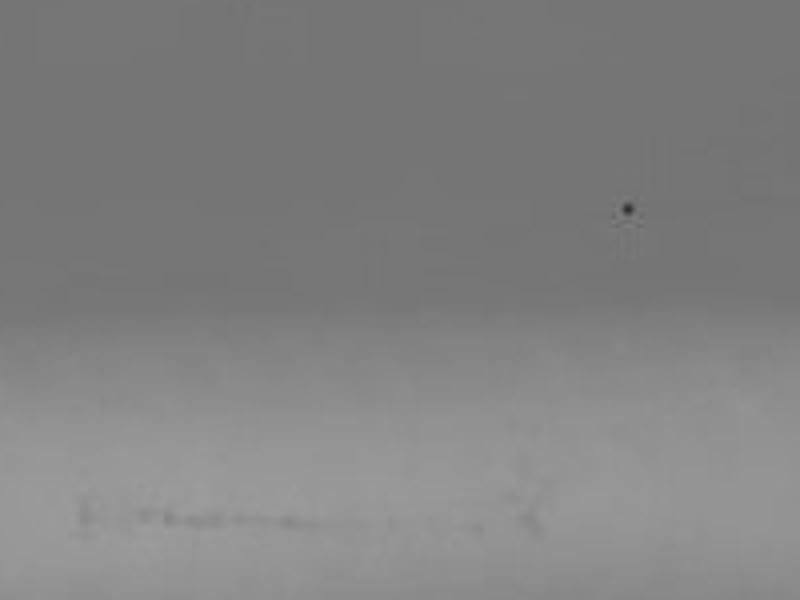defect: (129, 501, 157, 529), (204, 509, 226, 534), (618, 195, 639, 220), (279, 509, 303, 530), (465, 516, 490, 535), (160, 507, 177, 530), (184, 507, 201, 530)
